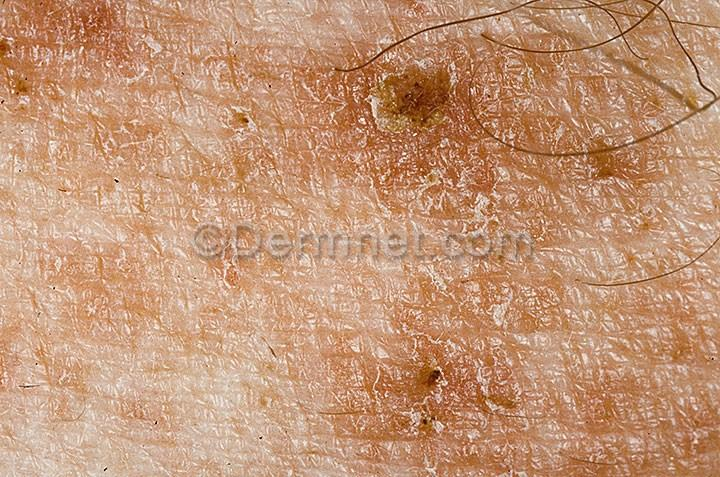Eczema: (7, 2, 720, 223), (0, 272, 720, 477), (3, 226, 184, 274), (541, 231, 720, 263)
